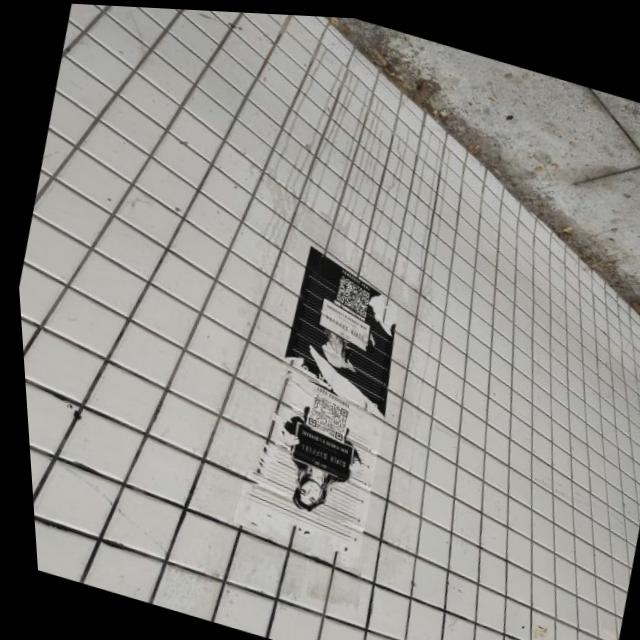qrcode: (299, 389, 346, 438), (329, 271, 369, 312)
